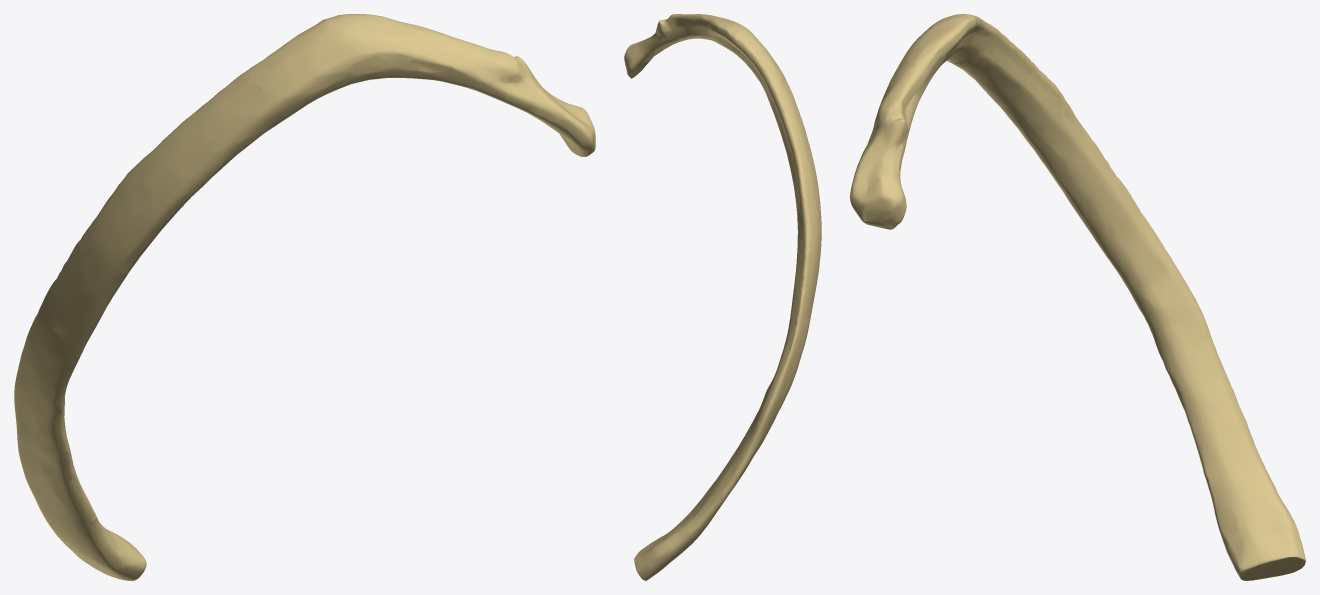
3 views of the same model, side by side, from view 1: azimuth 30°, elevation 25°; view 2: azimuth 150°, elevation 25°; view 3: azimuth 270°, elevation 25° (orthographic). The views are drawn at different scales.
Parts seen in each view (by area): view 1: 右侧第六肋; view 2: 右侧第六肋; view 3: 右侧第六肋.
Part boxes in pixels (left/top/right/bottom): 右侧第六肋: left=14, top=14, right=595, bottom=580; 右侧第六肋: left=624, top=14, right=821, bottom=580; 右侧第六肋: left=850, top=14, right=1305, bottom=580.
Bounding box in the file's own units: 0.1813 × 0.2891 × 0.2042.
